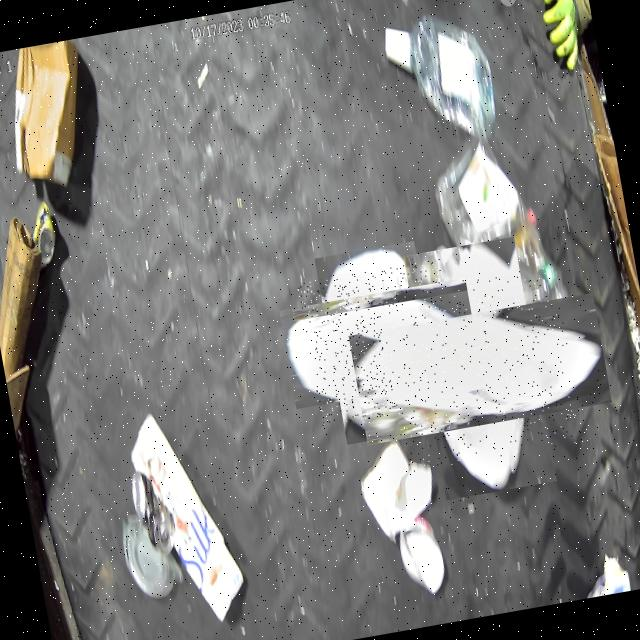milk-jug: (376, 264, 584, 472), (296, 258, 464, 426)
